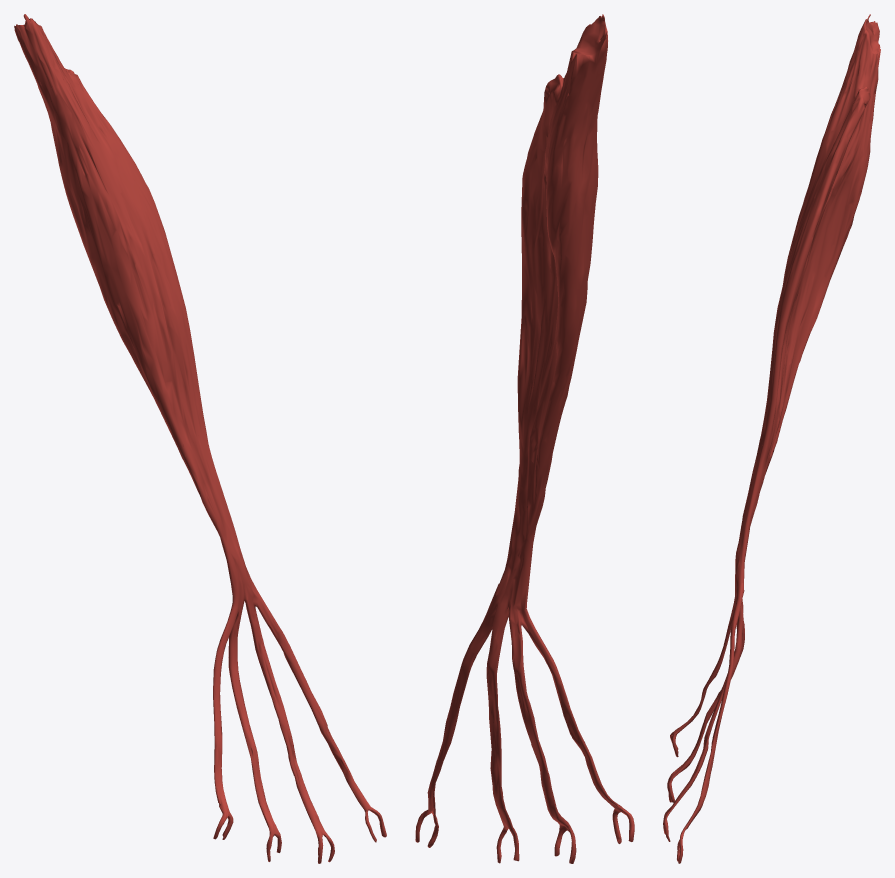
The model's file is musculos-humero-ulnar-head-of-flexor-digitorum-superficialis-l.glb.
The picture shows the model from 3 angles, left to right: view 1: azimuth 30°, elevation 25°; view 2: azimuth 150°, elevation 25°; view 3: azimuth 270°, elevation 25°; orthographic projection. The views are drawn at different scales.
Parts seen in each view (by area): view 1: Humero-ulnar head of flexor digitorum superficialis.l; view 2: Humero-ulnar head of flexor digitorum superficialis.l; view 3: Humero-ulnar head of flexor digitorum superficialis.l.
Boxes of the visible parts, left/top/right/bottom form: Humero-ulnar head of flexor digitorum superficialis.l: left=14, top=14, right=386, bottom=863; Humero-ulnar head of flexor digitorum superficialis.l: left=415, top=14, right=634, bottom=863; Humero-ulnar head of flexor digitorum superficialis.l: left=663, top=14, right=880, bottom=863.
Size of the model in its own units: 0.132 by 0.3897 by 0.1037.
